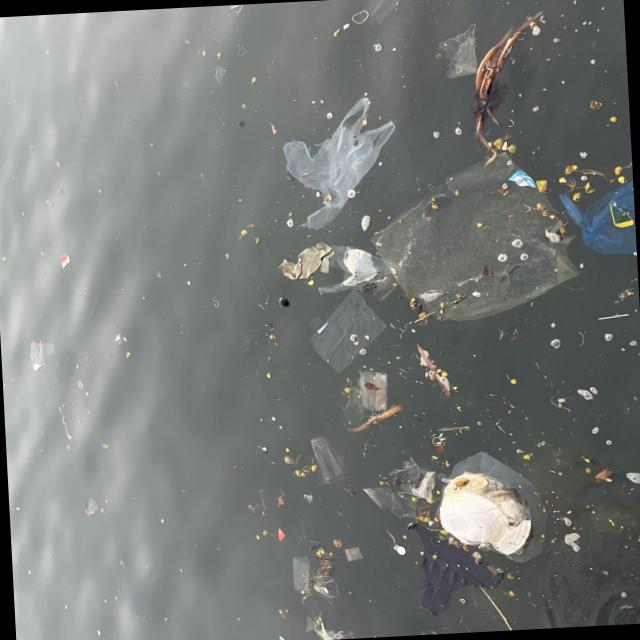foam: (439, 485, 533, 558)
plastic bag: (367, 152, 578, 324), (277, 99, 394, 227), (566, 183, 640, 257), (312, 243, 399, 304)
